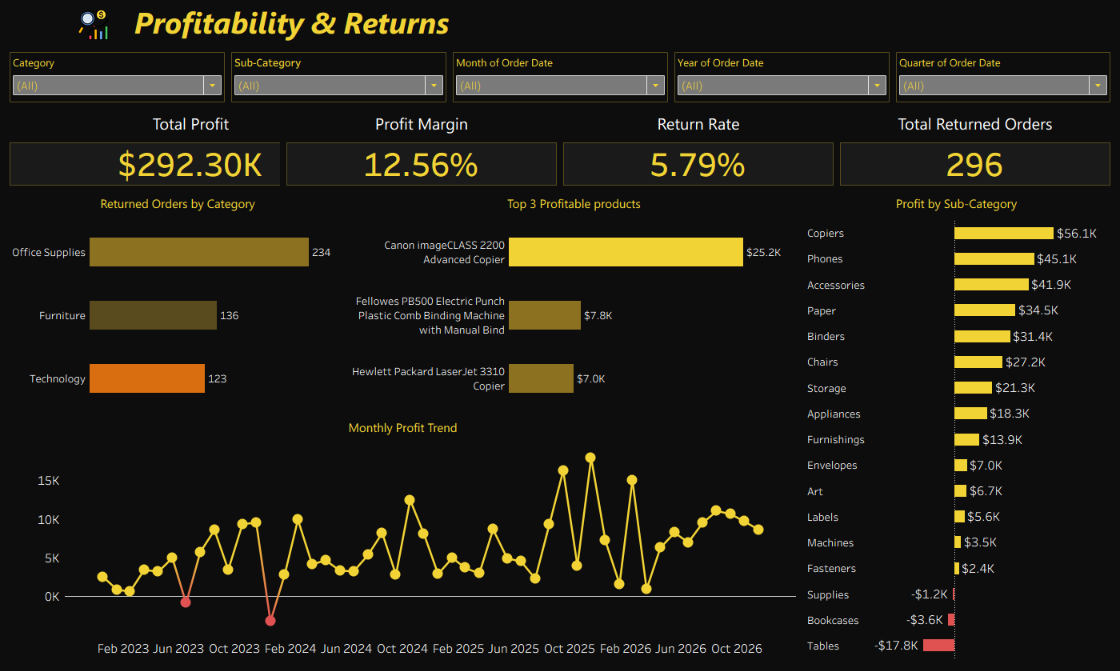

This screenshot's page, from the dashboard's own definition file:
{"tool":"tableau","page":{"name":"Profitability & Returns","canvas":[1400,850],"ordinal":0},"visuals":[{"type":"title","box":[8,8,1384,68]},{"type":"image","param":"Image/financial-forecasting.png","box":[97,26,39,41]},{"type":"filter","title":"Profit Margin","param":"[federated.17jq99y0l6ibxz1crijgj0ft7ye0].[none:Category:nk]","box":[8,76,277,71]},{"type":"filter","title":"Profit by Sub-Category","param":"[federated.17jq99y0l6ibxz1crijgj0ft7ye0].[none:Sub-Category:nk]","box":[285,76,277,71]},{"type":"filter","title":"Profit Margin","param":"[federated.17jq99y0l6ibxz1crijgj0ft7ye0].[mn:Order Date:ok]","box":[562,76,277,71]},{"type":"filter","title":"Profit Margin","param":"[federated.17jq99y0l6ibxz1crijgj0ft7ye0].[yr:Order Date:ok]","box":[839,76,277,71]},{"type":"filter","title":"Profit Margin","param":"[federated.17jq99y0l6ibxz1crijgj0ft7ye0].[qr:Order Date:ok]","box":[1116,76,276,71]},{"type":"worksheet","title":"Total Profit","mark":"Automatic","box":[8,147.5,346,103.5]},{"type":"worksheet","title":"Profit Margin","mark":"Automatic","box":[354,147.5,346,103.5]},{"type":"worksheet","title":"Return Rate","mark":"Automatic","box":[700,147.5,346,103.5]},{"type":"worksheet","title":"Total Returned Orders","mark":"Automatic","box":[1046,147.5,346,103.5]},{"type":"worksheet","title":"Returned Orders by Category","mark":"Automatic","rows":["Category"],"cols":["Order ID (Returns)"],"box":[8,251,428,280]},{"type":"worksheet","title":"Top 3 Profitable products","mark":"Automatic","rows":["Product Name"],"cols":["Profit"],"box":[436,251,563,280]},{"type":"worksheet","title":"Profit by Sub-Category","mark":"Automatic","rows":["Sub-Category"],"cols":["Profit"],"box":[999,251,393,591]},{"type":"worksheet","title":"Monthly Profit Trend","mark":"Automatic","rows":["Profit","Profit"],"cols":["Order Date"],"box":[8,531,991,311]}]}

Visuals, with their boxes in screenshot pixels (x1, y1, x2, y2), scaled from the page's 1400x850 canvas onto the 1120x671 screenshot:
title: [x1=6, y1=6, x2=1114, y2=60]
image: [x1=78, y1=21, x2=109, y2=53]
"Profit Margin" filter: [x1=6, y1=60, x2=228, y2=116]
"Profit by Sub-Category" filter: [x1=228, y1=60, x2=450, y2=116]
"Profit Margin" filter: [x1=450, y1=60, x2=671, y2=116]
"Profit Margin" filter: [x1=671, y1=60, x2=893, y2=116]
"Profit Margin" filter: [x1=893, y1=60, x2=1114, y2=116]
"Total Profit" worksheet: [x1=6, y1=116, x2=283, y2=198]
"Profit Margin" worksheet: [x1=283, y1=116, x2=560, y2=198]
"Return Rate" worksheet: [x1=560, y1=116, x2=837, y2=198]
"Total Returned Orders" worksheet: [x1=837, y1=116, x2=1114, y2=198]
"Returned Orders by Category" worksheet: [x1=6, y1=198, x2=349, y2=419]
"Top 3 Profitable products" worksheet: [x1=349, y1=198, x2=799, y2=419]
"Profit by Sub-Category" worksheet: [x1=799, y1=198, x2=1114, y2=665]
"Monthly Profit Trend" worksheet: [x1=6, y1=419, x2=799, y2=665]
